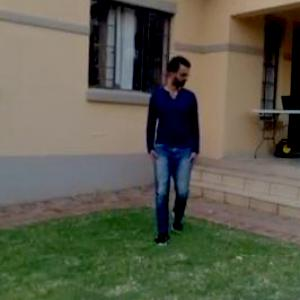follow: (147, 49, 204, 248)
